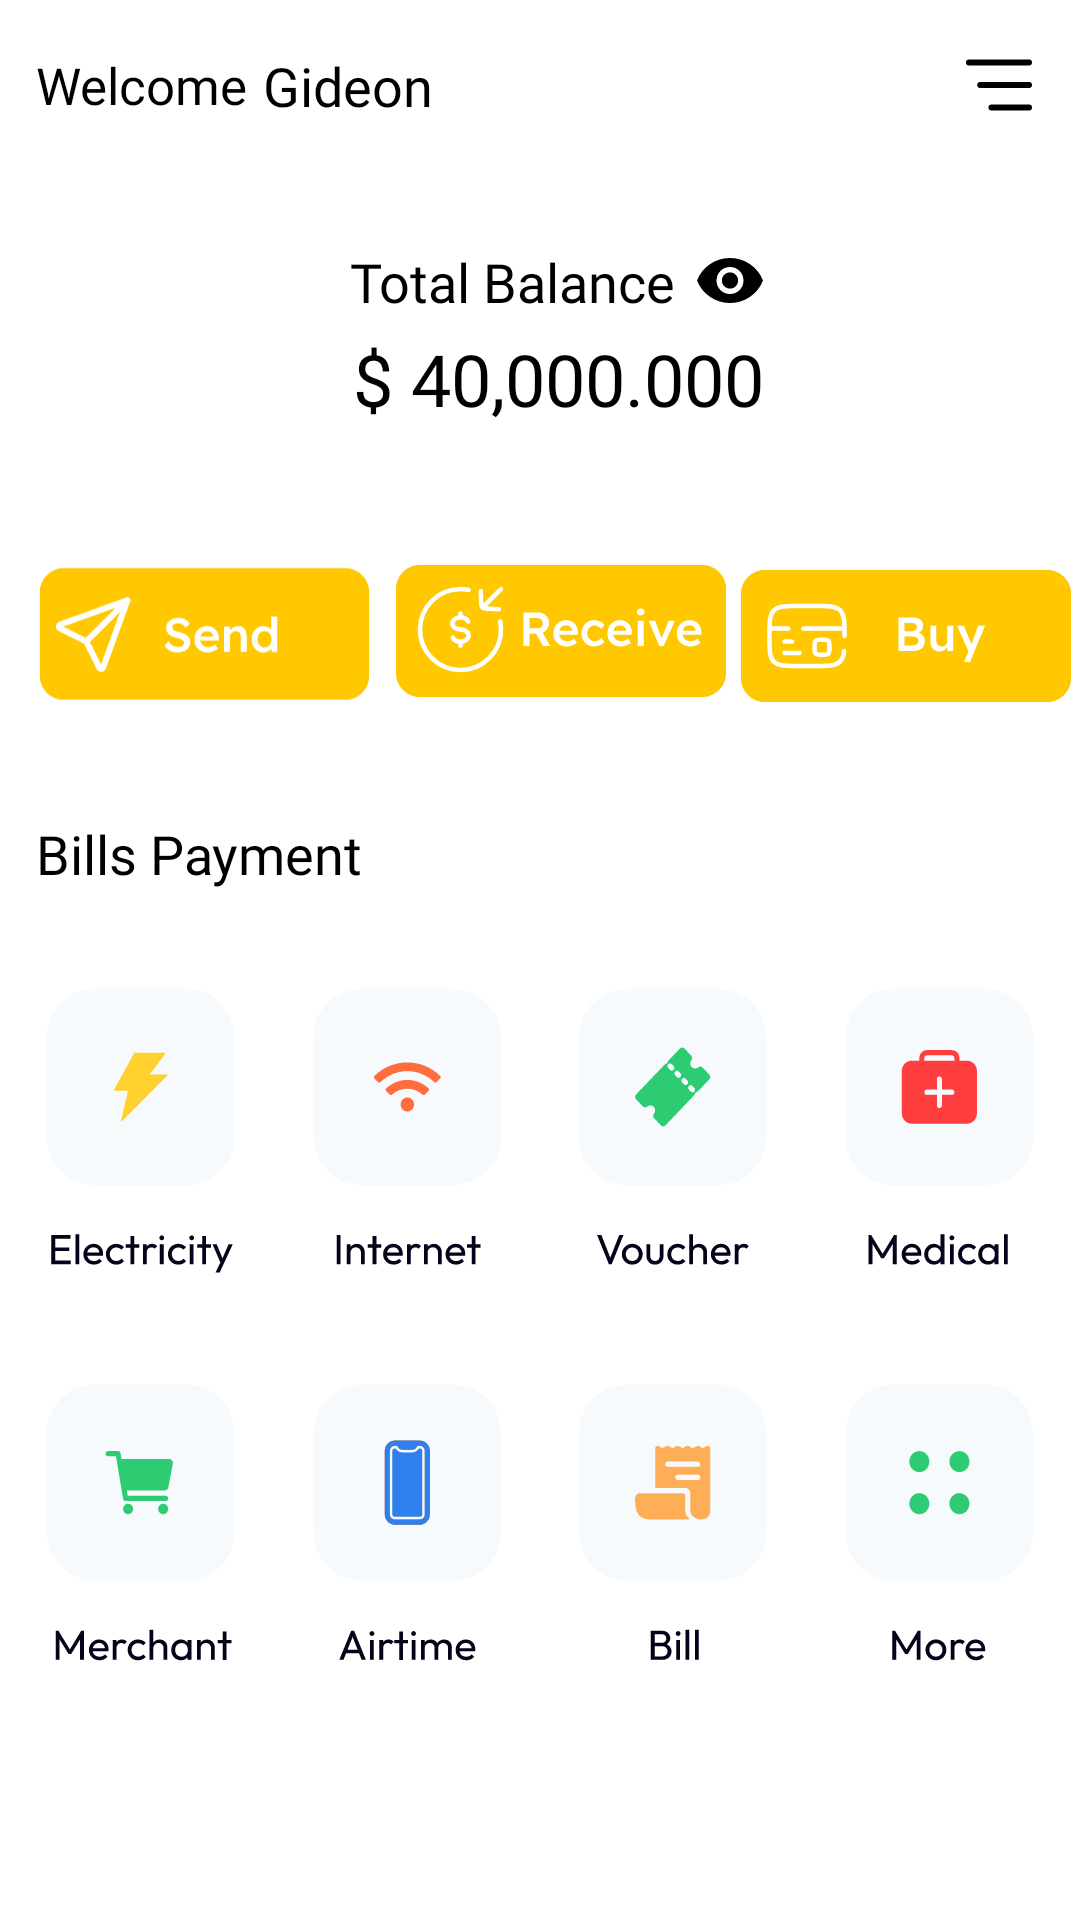

Where to tap for icons on this 1080 x 1920 app screen, as (x=x, y=y):
visibility: (x=730, y=280)
